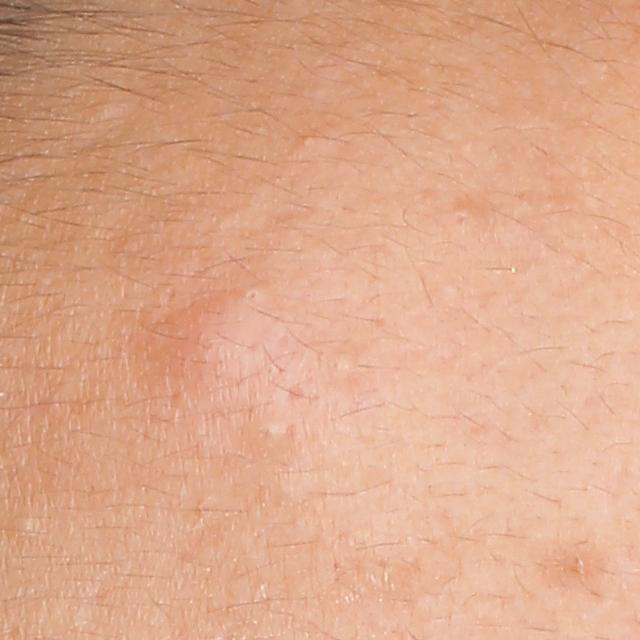comedo: (283, 125, 350, 159), (437, 203, 483, 236), (253, 412, 291, 447), (243, 282, 272, 305)
